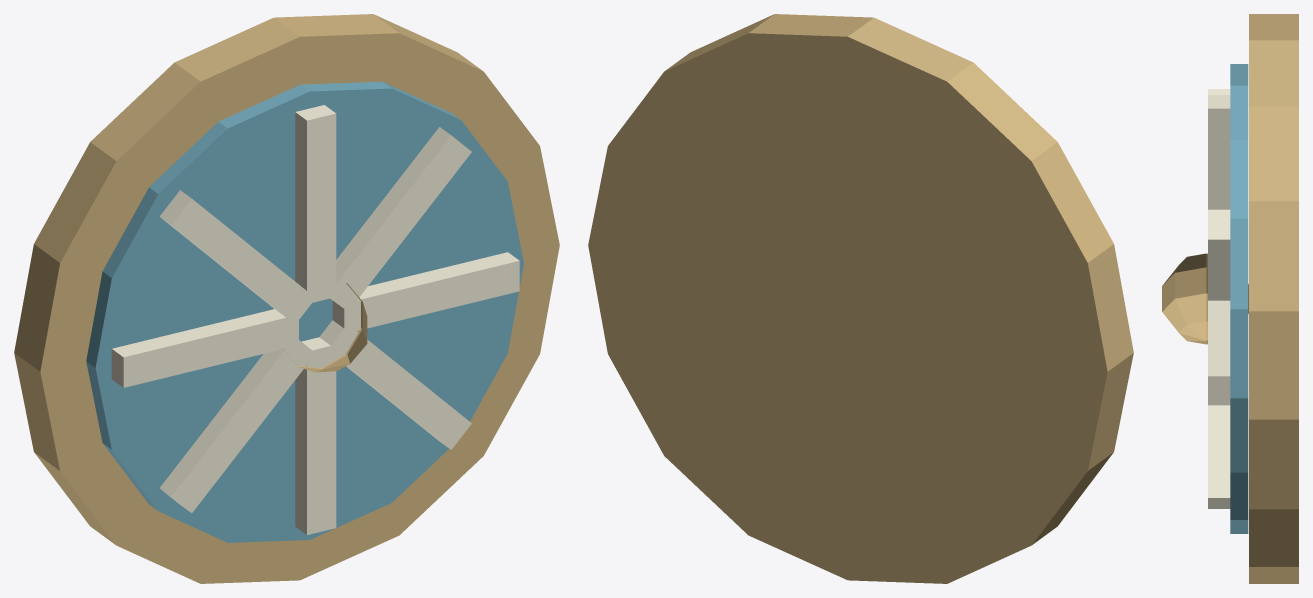
The model's file is tidal-star-chart-quest-token__272.glb.
3 views of the same model, side by side, from view 1: azimuth 30°, elevation 25°; view 2: azimuth 150°, elevation 25°; view 3: azimuth 270°, elevation 25° (orthographic). The views are drawn at different scales.
Visible parts, largest first — view 1: tidal-observatory-star-chart-token; view 2: tidal-observatory-star-chart-token; view 3: tidal-observatory-star-chart-token.
Boxes of the visible parts, bbox=[...] form: tidal-observatory-star-chart-token: bbox=[14, 14, 559, 583]; tidal-observatory-star-chart-token: bbox=[588, 14, 1133, 583]; tidal-observatory-star-chart-token: bbox=[1162, 14, 1298, 583].
Size of the model in its own units: 0.8 by 0.8 by 0.1918.
